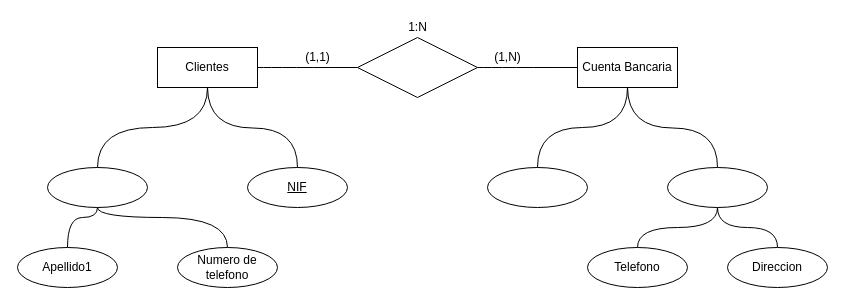
The diagram is 845 pixels wide and 305 high, and some of its shapes have lost their labels. The shapes that lost their labels are listed below. From the top down, each one's box as (x1, y1, x2, y2) in pixels, then its label:
(356, 36, 478, 98): Disponen
(46, 166, 148, 208): Nombre
(486, 166, 588, 208): Numero
(666, 166, 768, 208): Cliente
